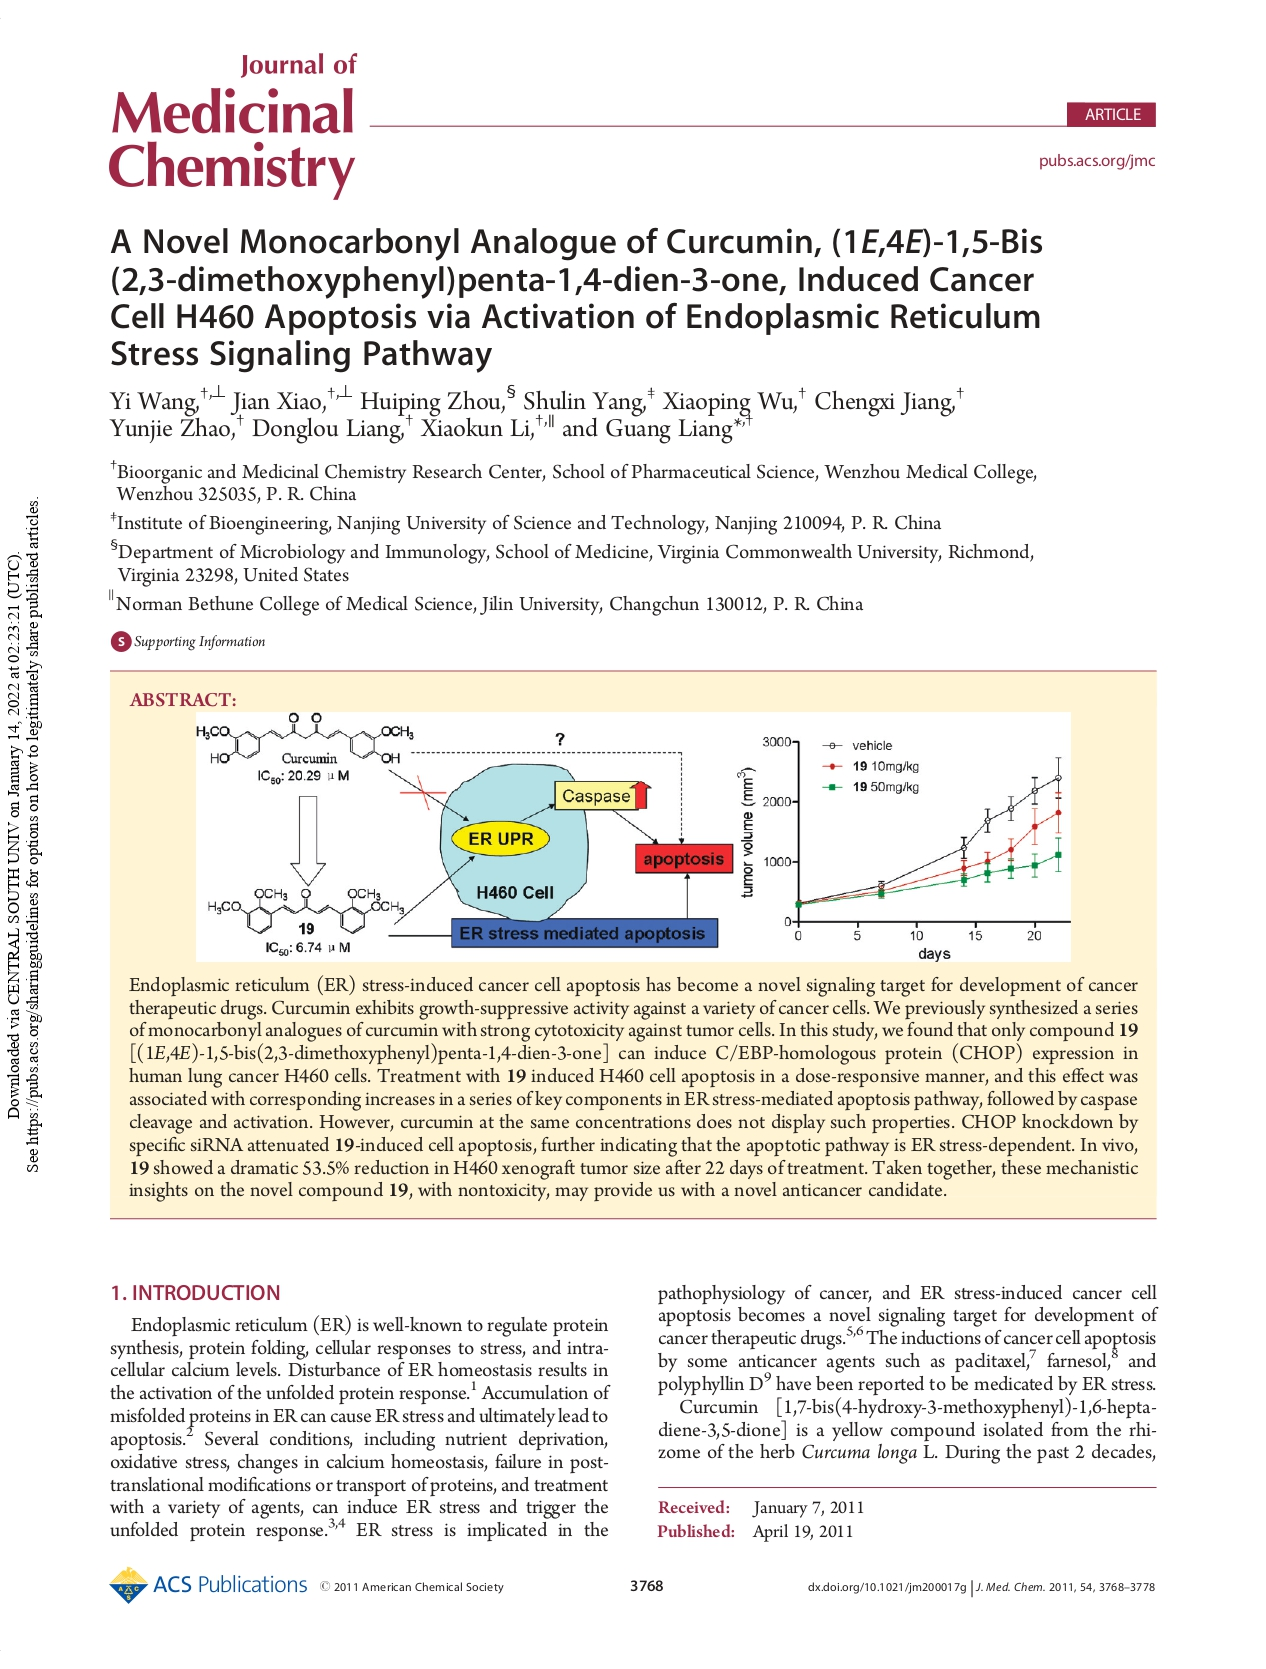exist_molecular: (195, 711, 415, 766), (203, 886, 407, 936)
